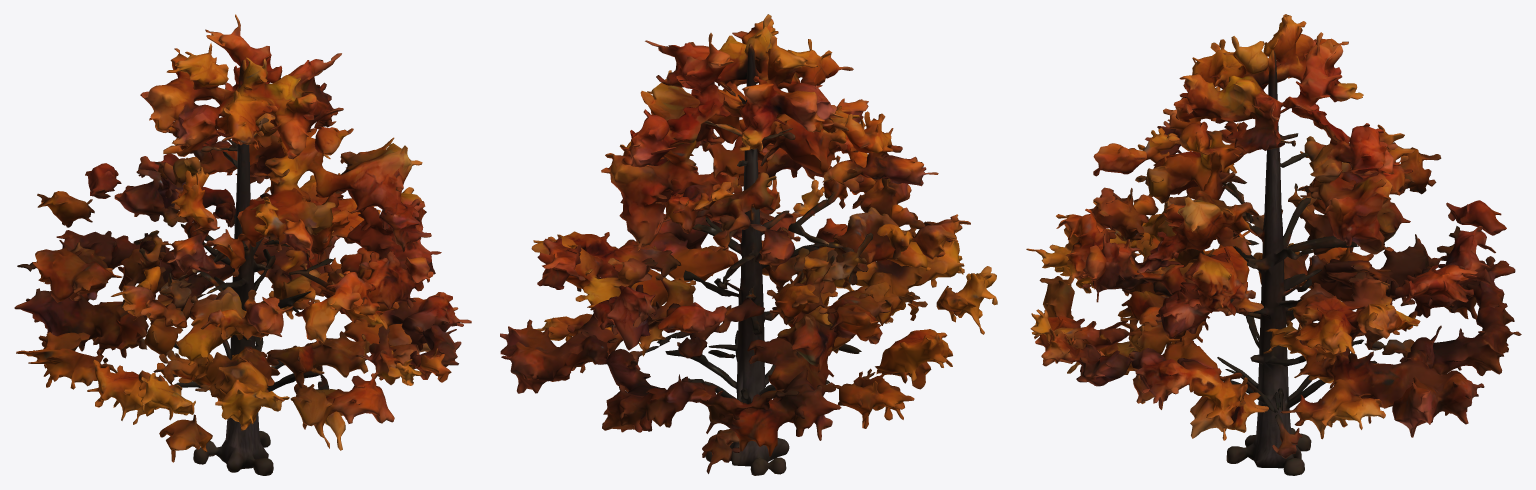
File: nature-bush-autumn.glb
3 views of the same model, side by side, from view 1: azimuth 30°, elevation 25°; view 2: azimuth 150°, elevation 25°; view 3: azimuth 270°, elevation 25° (orthographic). The views are drawn at different scales.
Parts seen in each view (by area): view 1: tripo_node_bf77f1af-3248-41c0-8dbf-38b3941e5b44; view 2: tripo_node_bf77f1af-3248-41c0-8dbf-38b3941e5b44; view 3: tripo_node_bf77f1af-3248-41c0-8dbf-38b3941e5b44.
Part boxes in pixels (left/top/right/bottom): tripo_node_bf77f1af-3248-41c0-8dbf-38b3941e5b44: left=14, top=14, right=471, bottom=475; tripo_node_bf77f1af-3248-41c0-8dbf-38b3941e5b44: left=500, top=14, right=997, bottom=475; tripo_node_bf77f1af-3248-41c0-8dbf-38b3941e5b44: left=1026, top=14, right=1521, bottom=475.
Bounding box in the file's own units: 1.37 × 1.5 × 1.55.
Materials: 1 (1 with a texture image).
